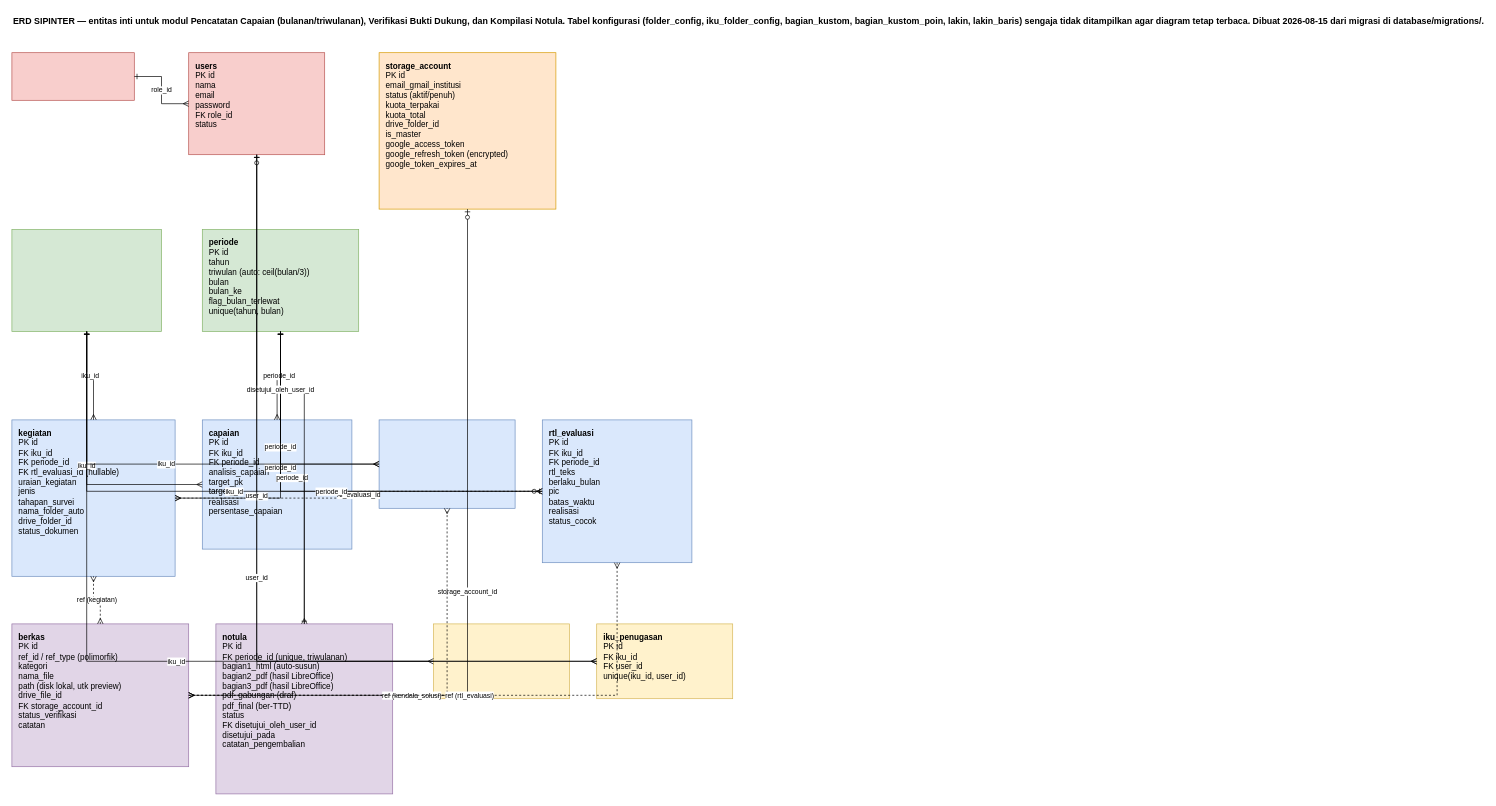
Some shapes in this 1496 by 806 pixel diagram are drawn without their labels. The shapes that lost their labels are listed below. From the top down, each one's box as (x1, y1, x2, y2) in pixels, then its label:
(11, 52, 134, 100): roles PK id nama
(11, 229, 162, 332): master_iku PK id kode (unique) indikator tim penanggung_jawab sasaran
(378, 419, 515, 508): kendala_solusi PK id FK iku_id FK periode_id kendala solusi
(433, 623, 570, 699): user_tim PK id FK user_id tim unique(user_id, tim)
